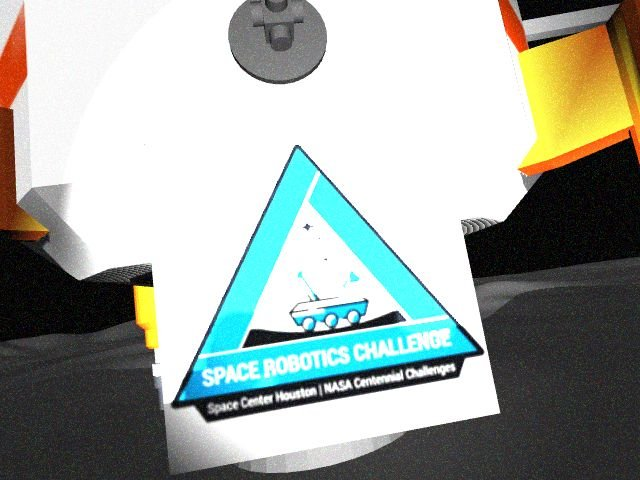basemarker: (171, 145, 486, 425)
